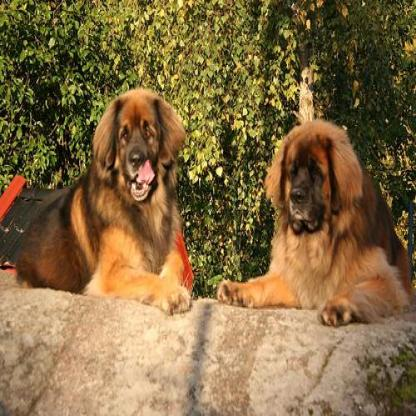Leonberg: (216, 110, 414, 332), (19, 89, 194, 312)
